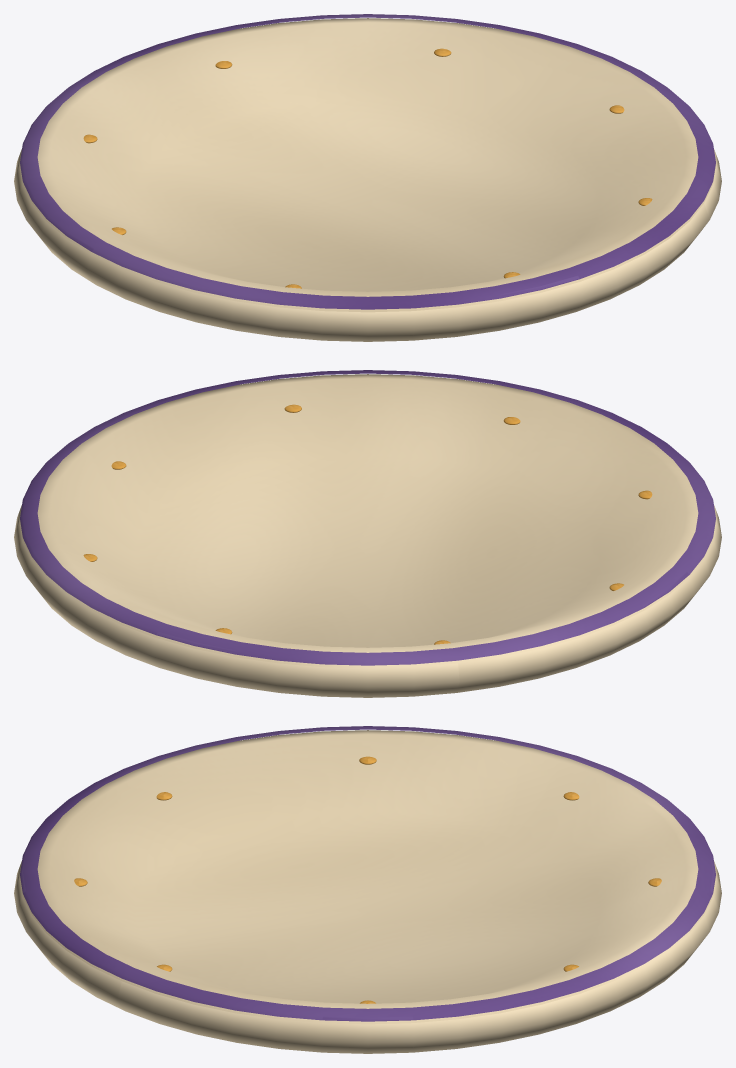
The model's file is V5_Plate.fbx.
3 renders of one model, top to bottom at view 1: azimuth 30°, elevation 25°; view 2: azimuth 150°, elevation 25°; view 3: azimuth 270°, elevation 25°, orthographic.
Visible parts, largest first — view 1: V5_Plate; view 2: V5_Plate; view 3: V5_Plate.
Boxes of the visible parts, <box> form: V5_Plate: <box>14,14,721,341</box>; V5_Plate: <box>14,370,721,697</box>; V5_Plate: <box>14,726,721,1053</box>.
Bounding box in the file's own units: 0.24 × 0.029 × 0.24.
Materials: 1 (1 with a texture image).
